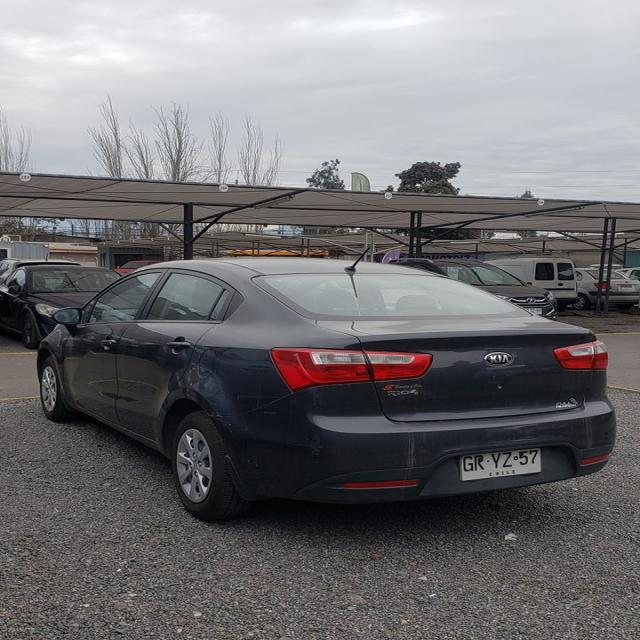patente: (457, 447, 542, 481)
